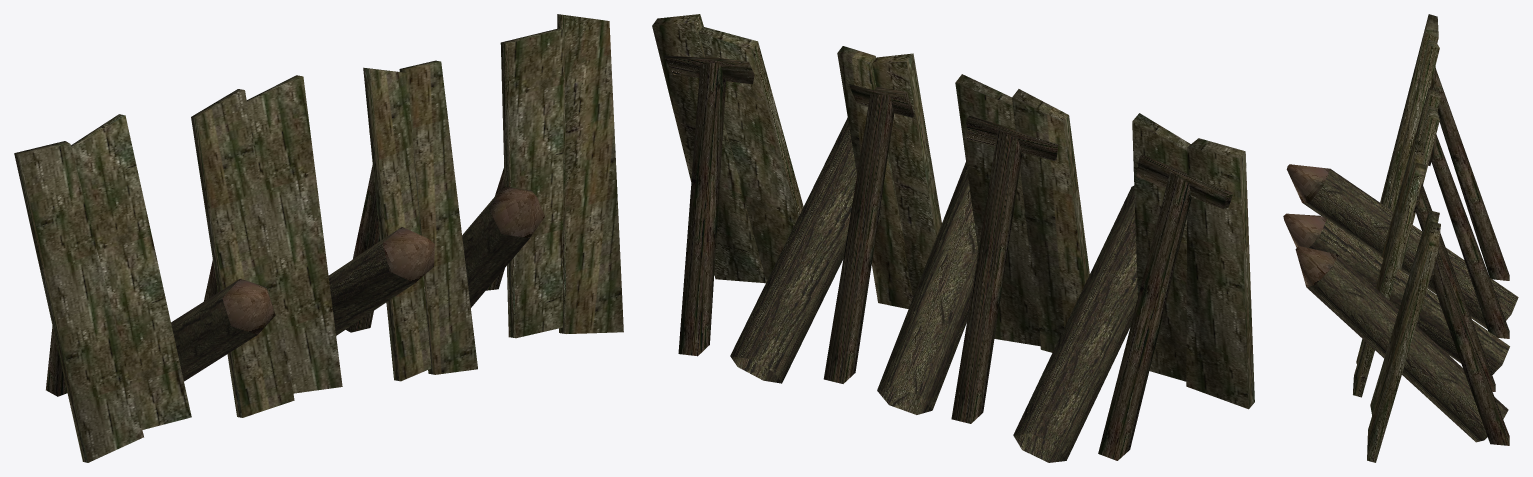
Rendered from OW_TROLLPALISSADE.glb.
3 views of the same model, side by side, from view 1: azimuth 30°, elevation 25°; view 2: azimuth 150°, elevation 25°; view 3: azimuth 270°, elevation 25° (orthographic). The views are drawn at different scales.
Parts seen in each view (by area): view 1: Mesh; view 2: Mesh; view 3: Mesh.
Boxes of the visible parts, x1,y1,x2,y2 form: Mesh: [14, 14, 623, 462]; Mesh: [652, 14, 1254, 462]; Mesh: [1283, 14, 1518, 462].
Size of the model in its own units: 11.46 by 6.23 by 4.99.
4 materials, 4 textured.
